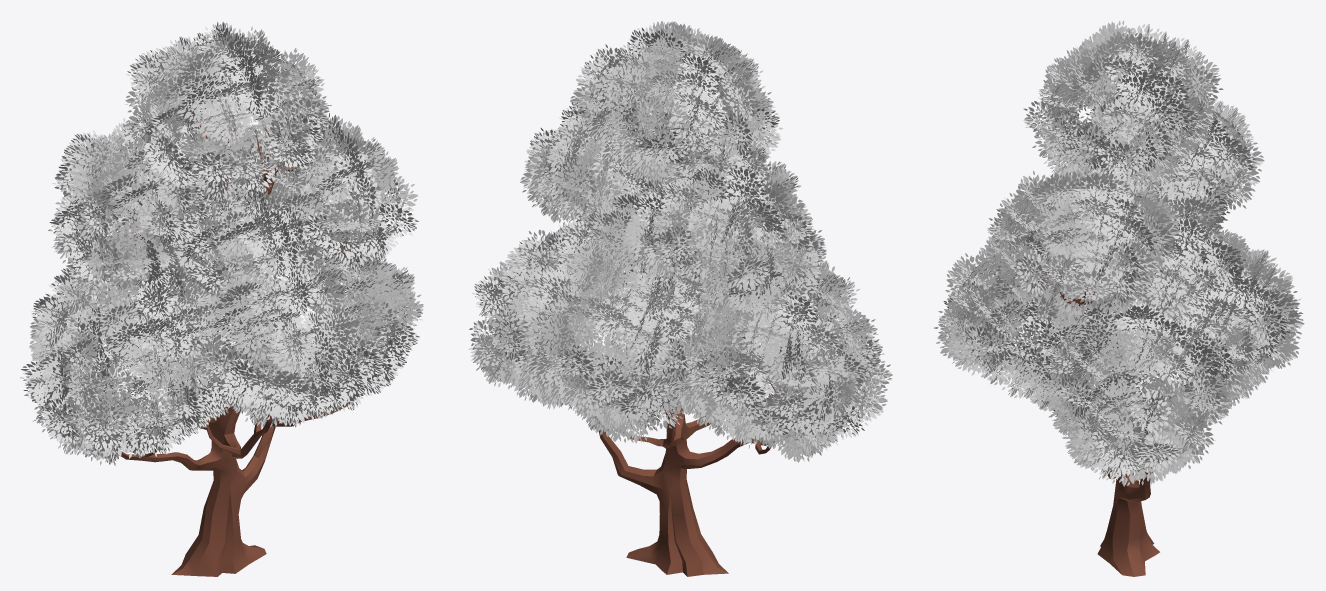
Rendered from FINAL_Tree_1.fbx.
3 views of the same model, side by side, from view 1: azimuth 30°, elevation 25°; view 2: azimuth 150°, elevation 25°; view 3: azimuth 270°, elevation 25° (orthographic).
Parts seen in each view (by area): view 1: Tree_free_03, Tree_free_03.001; view 2: Tree_free_03, Tree_free_03.001; view 3: Tree_free_03, Tree_free_03.001.
Part boxes in pixels (x1,y1,x2,y2): Tree_free_03: [20, 21, 423, 465]; Tree_free_03.001: [103, 117, 374, 576]; Tree_free_03: [468, 21, 892, 462]; Tree_free_03.001: [598, 103, 781, 576]; Tree_free_03: [934, 20, 1304, 486]; Tree_free_03.001: [1011, 122, 1185, 576].
Size of the model in its own units: 767 by 976 by 642.
